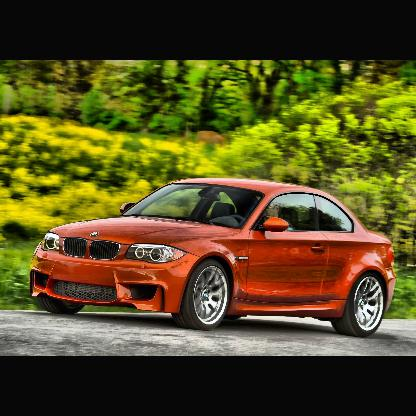BMW 1 Series Coupe 2012: (28, 177, 393, 340)
